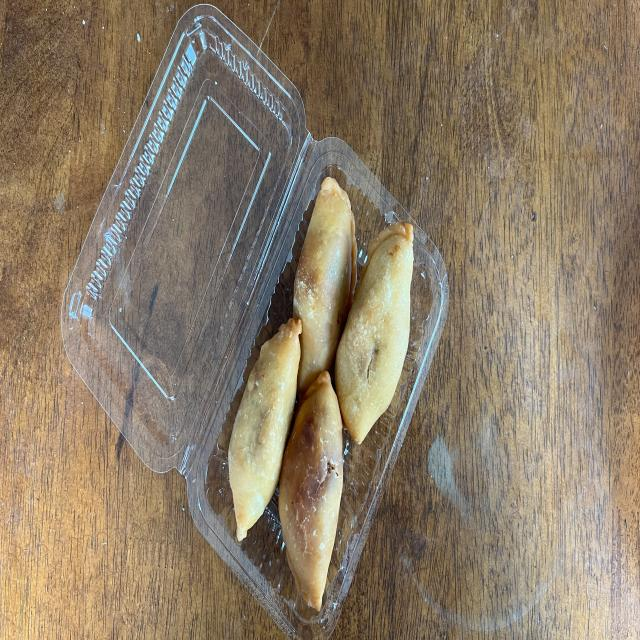karipap: (335, 224, 414, 444), (229, 318, 301, 542), (279, 371, 342, 611), (294, 178, 358, 396)
